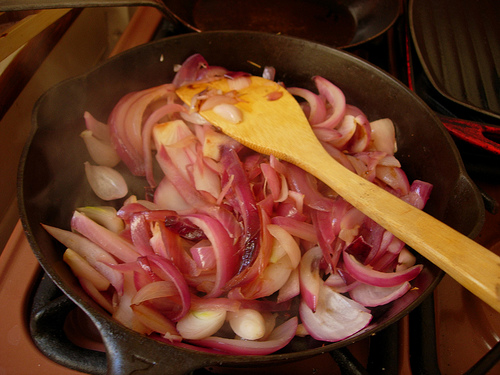onion: (46, 72, 432, 357)
